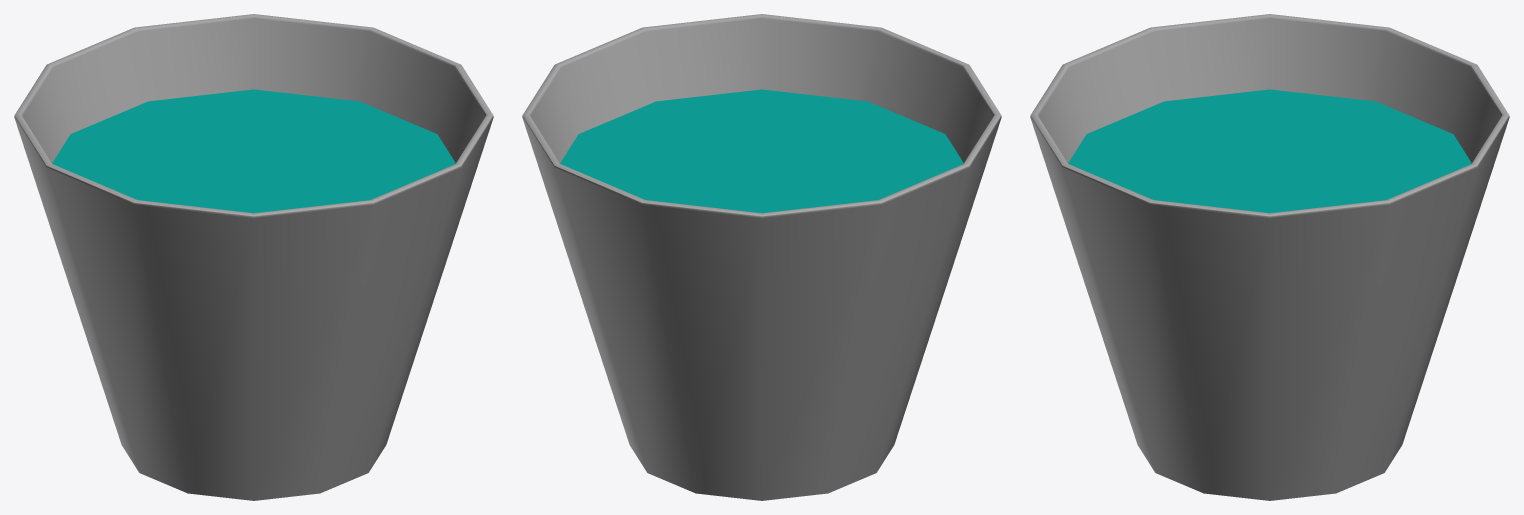
The model's file is water.fbx.
The picture shows the model from 3 angles, left to right: view 1: azimuth 30°, elevation 25°; view 2: azimuth 150°, elevation 25°; view 3: azimuth 270°, elevation 25°; orthographic projection.
Visible parts, largest first — view 1: water1; view 2: water1; view 3: water1.
Boxes of the visible parts, x1,y1,x2,y2 form: water1: (14, 14, 493, 500); water1: (522, 14, 1001, 500); water1: (1030, 14, 1509, 500).
Size of the model in its own units: 38.59 by 29.36 by 38.59.
